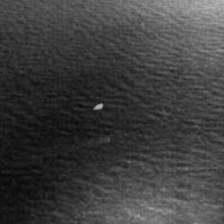Target: (92, 103, 104, 110)
